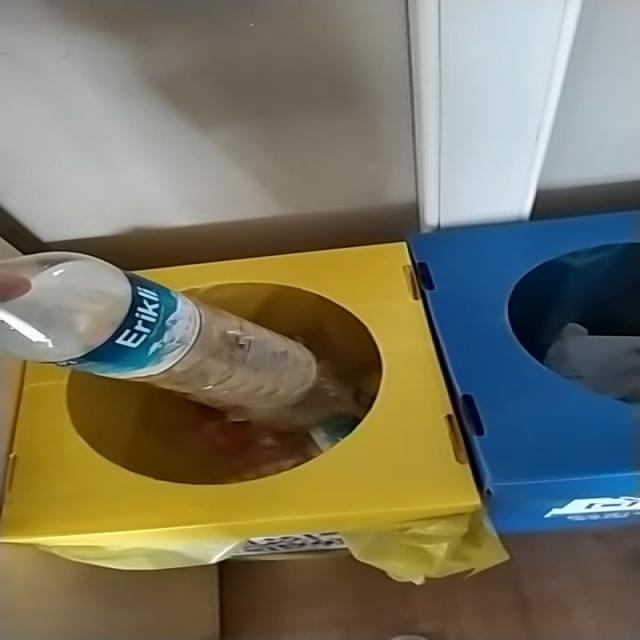Plastic: (137, 302, 316, 415), (0, 252, 131, 363)
